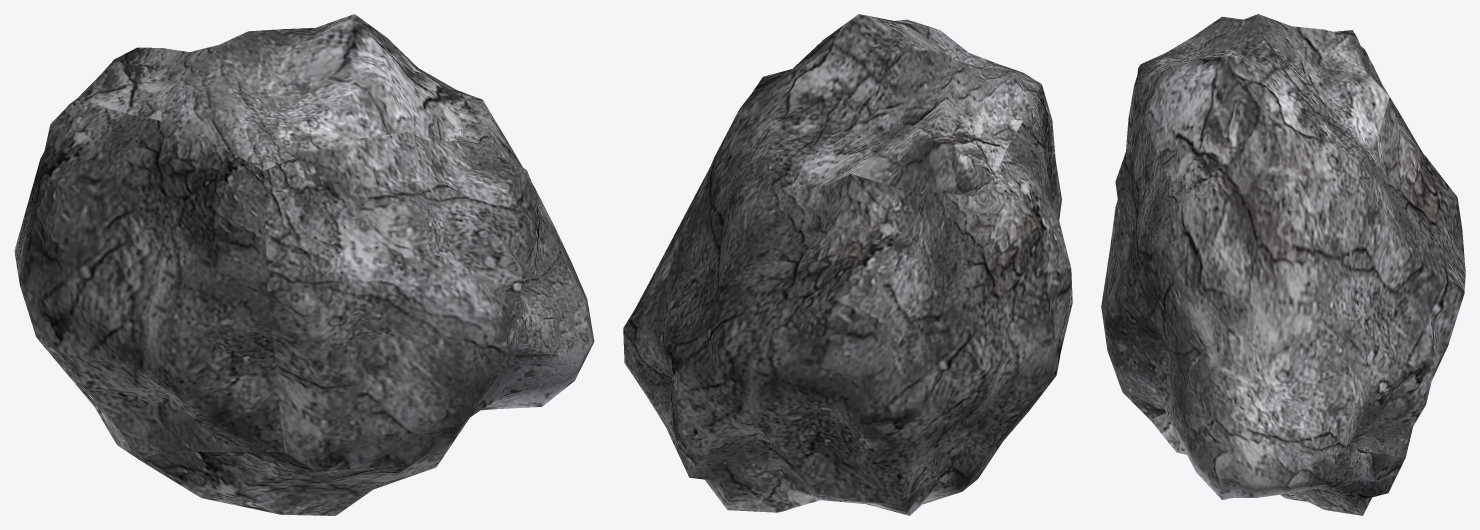
Rendered from asteroid6.glb.
3 views of the same model, side by side, from view 1: azimuth 30°, elevation 25°; view 2: azimuth 150°, elevation 25°; view 3: azimuth 270°, elevation 25° (orthographic). The views are drawn at different scales.
Parts seen in each view (by area): view 1: Cube.041; view 2: Cube.041; view 3: Cube.041.
Part boxes in pixels (<box>): Cube.041: <box>14,14,594,515</box>; Cube.041: <box>623,14,1072,515</box>; Cube.041: <box>1101,14,1465,515</box>.
Bounding box in the file's own units: 46.46 × 44.85 × 33.84.
1 material, 1 textured.
